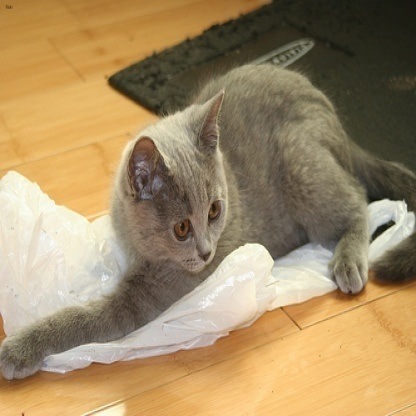british_shorthair: (1, 63, 416, 380)
